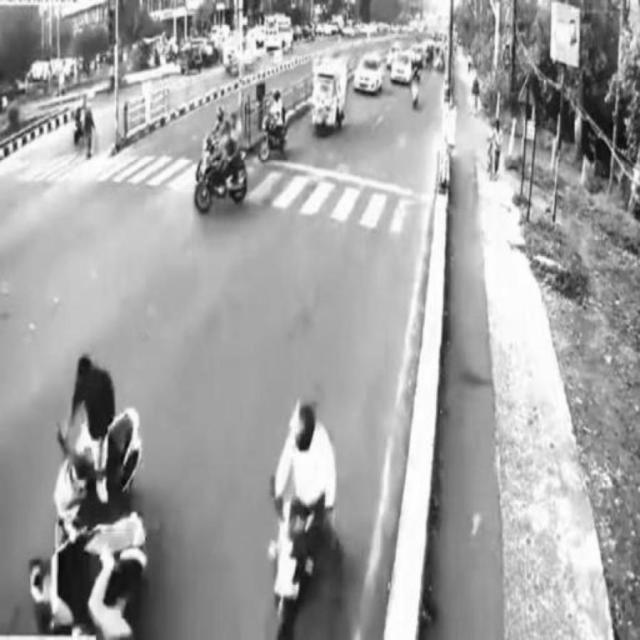accident: (32, 361, 150, 639)
vehicle: (268, 398, 346, 636), (197, 128, 251, 209), (310, 60, 347, 128), (257, 89, 291, 159), (353, 48, 379, 90)
